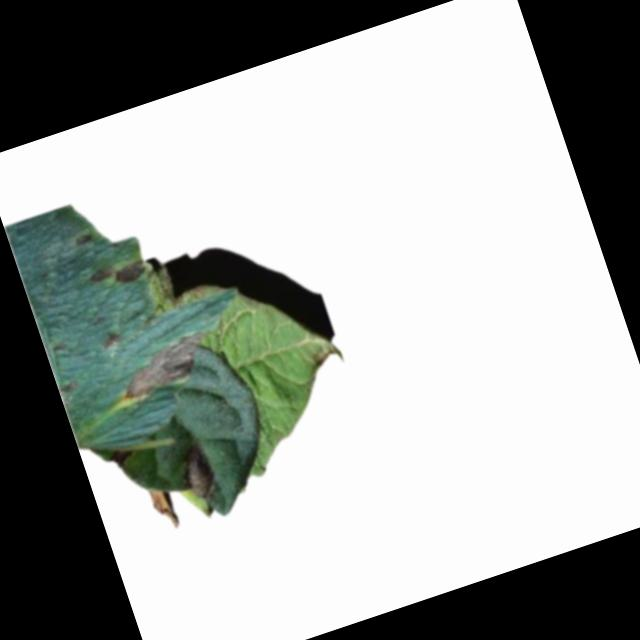Early_blight: (109, 328, 216, 402), (178, 442, 221, 501), (87, 253, 148, 293), (149, 485, 181, 533), (100, 328, 124, 351)
